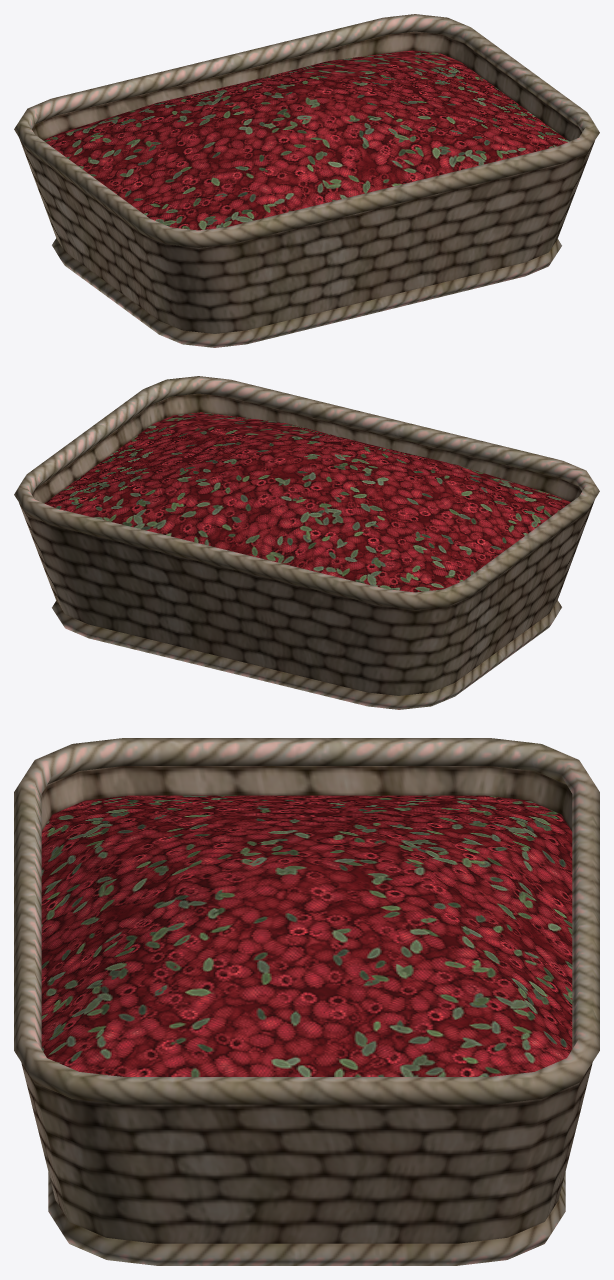
File: village_wicker_basket_11.fbx
3 renders of one model, top to bottom at view 1: azimuth 30°, elevation 25°; view 2: azimuth 150°, elevation 25°; view 3: azimuth 270°, elevation 25°, orthographic. The views are drawn at different scales.
Parts seen in each view (by area): view 1: village_wicker_basket_11; view 2: village_wicker_basket_11; view 3: village_wicker_basket_11.
Part boxes in pixels (box(x1,y1,x2,y2)): village_wicker_basket_11: box(14, 14, 599, 347); village_wicker_basket_11: box(14, 376, 599, 709); village_wicker_basket_11: box(14, 738, 599, 1265).
Bounding box in the file's own units: 105 × 34.6 × 74.45.
